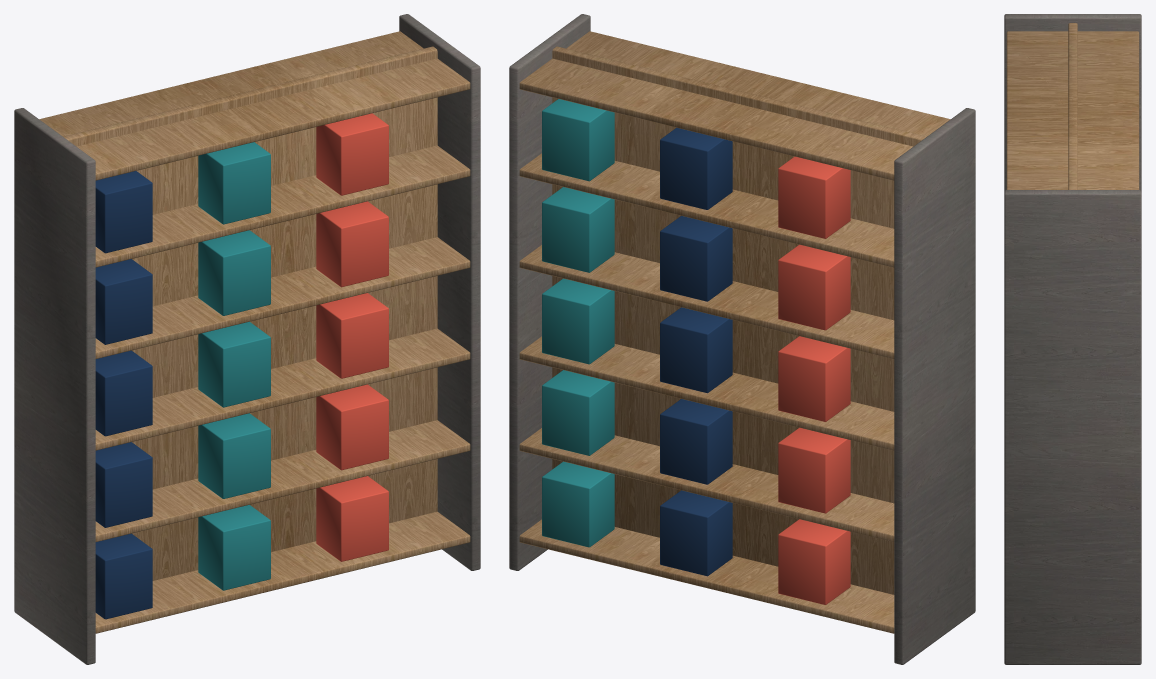
Rendered from library-stack-3eb3ed4c4560.glb.
The picture shows the model from 3 angles, left to right: view 1: azimuth 30°, elevation 25°; view 2: azimuth 150°, elevation 25°; view 3: azimuth 270°, elevation 25°; orthographic projection. The views are drawn at different scales.
Visible parts, largest first — view 1: Mesh_Campus_Oak, Mesh_Lectern_Walnut, Mesh_Carnival_Coral, Mesh_Echo_Whale_Teal, Mesh_Echo_Uni_Navy; view 2: Mesh_Campus_Oak, Mesh_Lectern_Walnut, Mesh_Echo_Whale_Teal, Mesh_Echo_Uni_Navy, Mesh_Carnival_Coral; view 3: Mesh_Lectern_Walnut, Mesh_Campus_Oak.
Boxes of the visible parts, left/top/right/bottom form: Mesh_Campus_Oak: left=39, top=31, right=470, bottom=633; Mesh_Lectern_Walnut: left=14, top=14, right=480, bottom=664; Mesh_Carnival_Coral: left=316, top=113, right=388, bottom=561; Mesh_Echo_Whale_Teal: left=198, top=142, right=270, bottom=590; Mesh_Echo_Uni_Navy: left=95, top=171, right=152, bottom=619; Mesh_Campus_Oak: left=519, top=31, right=950, bottom=633; Mesh_Lectern_Walnut: left=509, top=14, right=975, bottom=664; Mesh_Echo_Whale_Teal: left=542, top=99, right=614, bottom=547; Mesh_Echo_Uni_Navy: left=660, top=127, right=732, bottom=576; Mesh_Carnival_Coral: left=778, top=156, right=850, bottom=604; Mesh_Lectern_Walnut: left=1004, top=14, right=1141, bottom=664; Mesh_Campus_Oak: left=1006, top=23, right=1139, bottom=189.
Size of the model in its own units: 1.81 by 2.2 by 0.58.
Materials: 5 (2 with a texture image).
